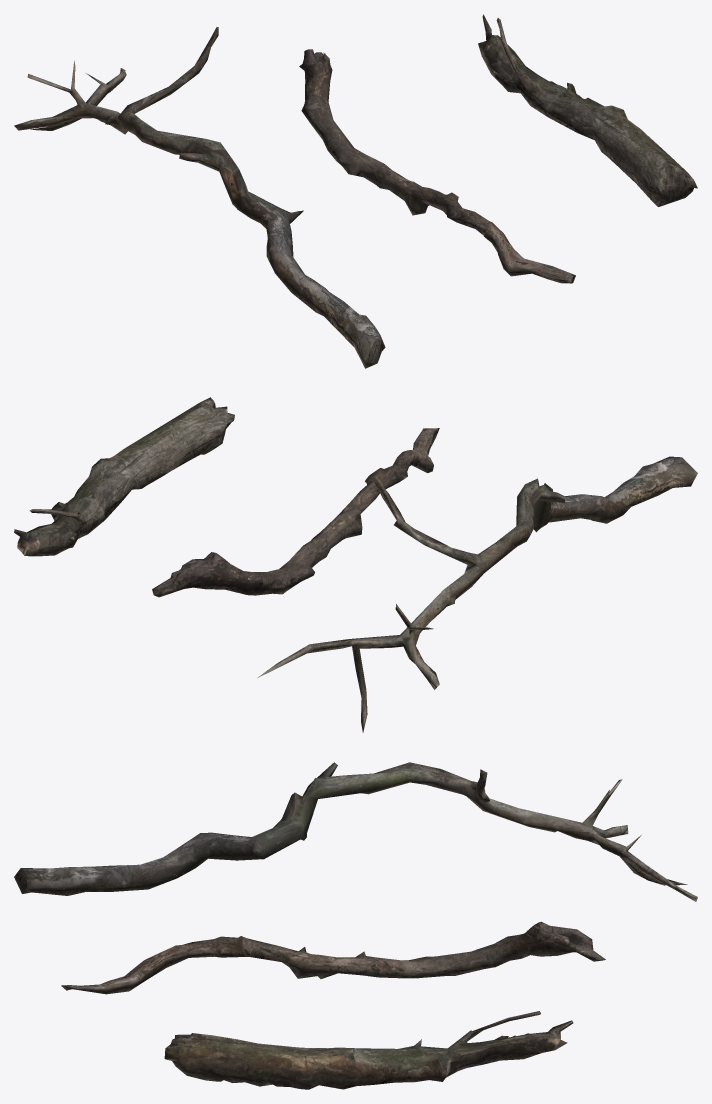
Rendered from yardprop_dry_branches.glb.
3 renders of one model, top to bottom at view 1: azimuth 30°, elevation 25°; view 2: azimuth 150°, elevation 25°; view 3: azimuth 270°, elevation 25°, orthographic. The views are drawn at different scales.
Visible parts, largest first — view 1: dry_branches_medium_01_a, dry_branches_medium_01_c, dry_branches_medium_01_b; view 2: dry_branches_medium_01_a, dry_branches_medium_01_c, dry_branches_medium_01_b; view 3: dry_branches_medium_01_a, dry_branches_medium_01_c, dry_branches_medium_01_b.
Boxes of the visible parts, left/top/right/bottom form: dry_branches_medium_01_a: left=14, top=27, right=385, bottom=368; dry_branches_medium_01_c: left=478, top=14, right=697, bottom=206; dry_branches_medium_01_b: left=299, top=49, right=575, bottom=283; dry_branches_medium_01_a: left=257, top=456, right=697, bottom=732; dry_branches_medium_01_c: left=14, top=397, right=234, bottom=556; dry_branches_medium_01_b: left=152, top=428, right=439, bottom=597; dry_branches_medium_01_a: left=14, top=762, right=697, bottom=901; dry_branches_medium_01_c: left=164, top=1011, right=573, bottom=1089; dry_branches_medium_01_b: left=61, top=921, right=605, bottom=994.
Size of the model in its own units: 1.06 by 0.3351 by 1.3.
1 material, 1 textured.
